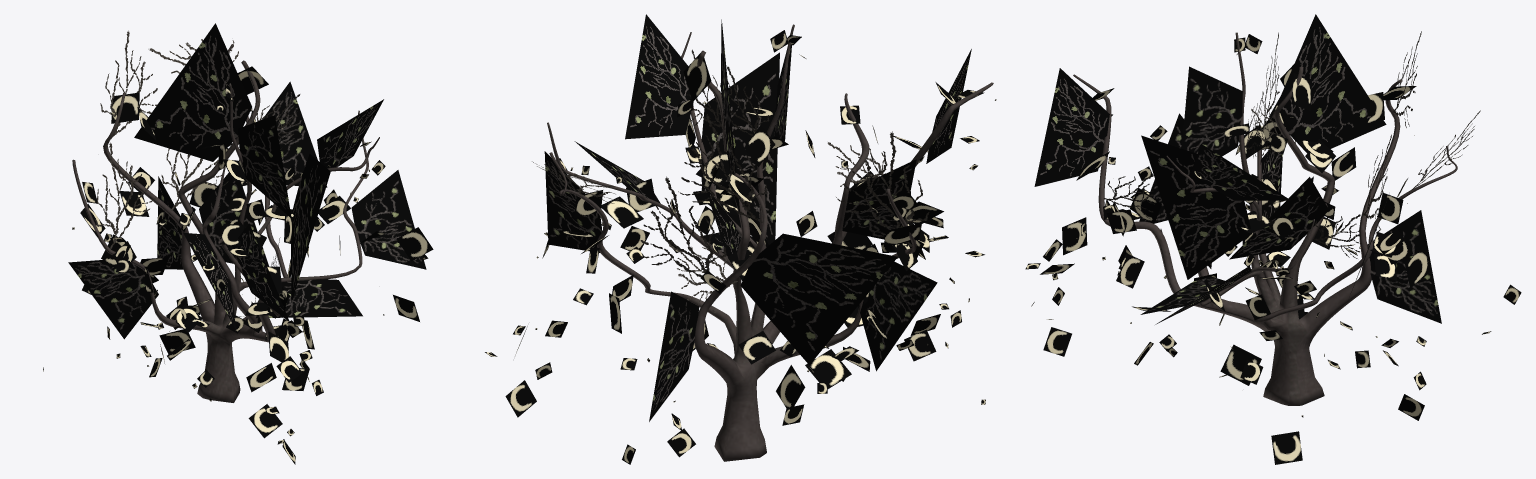
File: moontree.fbx
3 views of the same model, side by side, from view 1: azimuth 30°, elevation 25°; view 2: azimuth 150°, elevation 25°; view 3: azimuth 270°, elevation 25° (orthographic). The views are drawn at different scales.
Visible parts, largest first — view 1: Branches, moons, Tree_Base, Branches.001; view 2: Branches, moons, Tree_Base, Branches.001; view 3: Branches, moons, Tree_Base, Branches.001.
Boxes of the visible parts, left/top/right/bottom form: Branches: left=68, top=23, right=426, bottom=339; moons: left=43, top=66, right=433, bottom=464; Tree_Base: left=72, top=44, right=379, bottom=402; Branches.001: left=95, top=30, right=330, bottom=302; Branches: left=544, top=14, right=971, bottom=421; moons: left=485, top=30, right=996, bottom=464; Tree_Base: left=547, top=24, right=993, bottom=461; Branches.001: left=532, top=49, right=929, bottom=304; Branches: left=1034, top=14, right=1441, bottom=324; moons: left=1025, top=34, right=1521, bottom=464; Tree_Base: left=1073, top=32, right=1457, bottom=405; Branches.001: left=1103, top=31, right=1480, bottom=279.
Size of the model in its own units: 1124 by 1020 by 1188.
